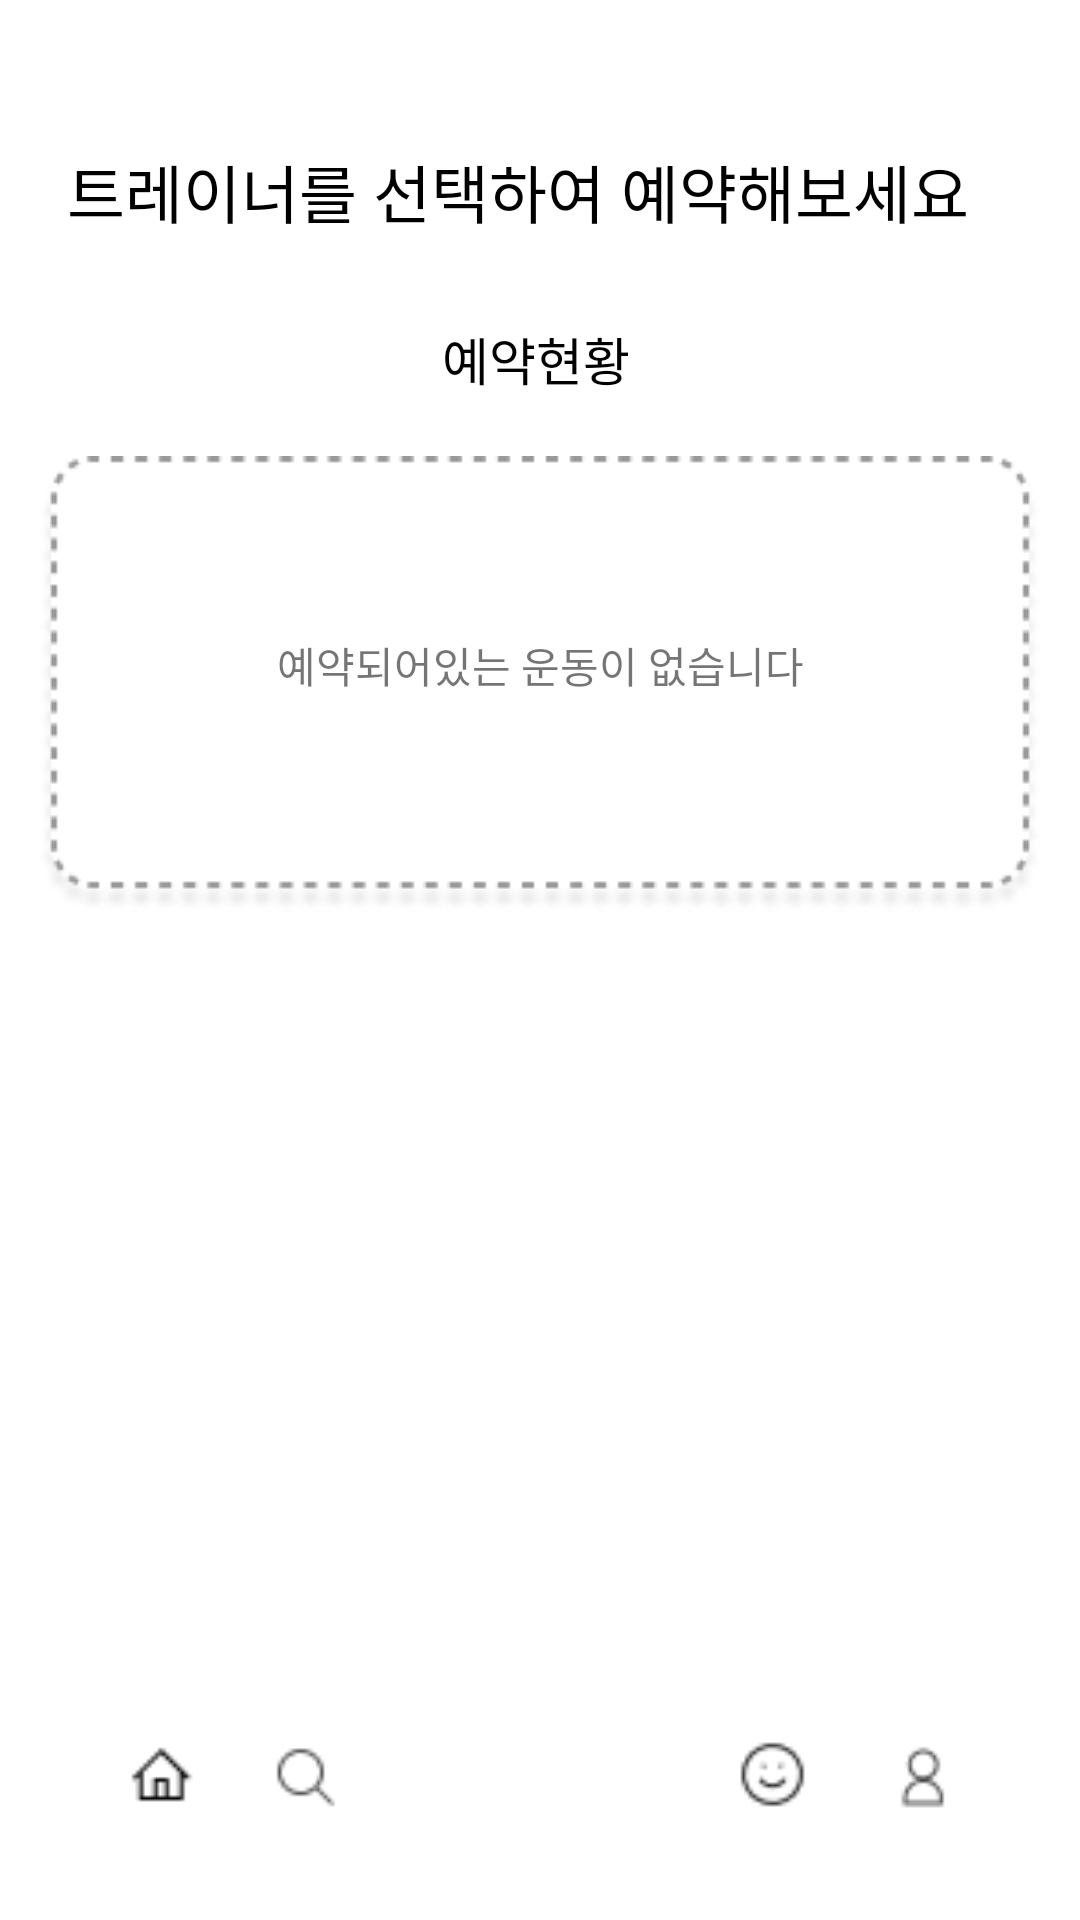

Locate icon controls on the screen. Image size 1080 x 1920, boxes as (x1, y1, x2, y2).
home: (131, 1748, 192, 1802)
profile: (901, 1747, 944, 1807)
search: (277, 1748, 335, 1806)
